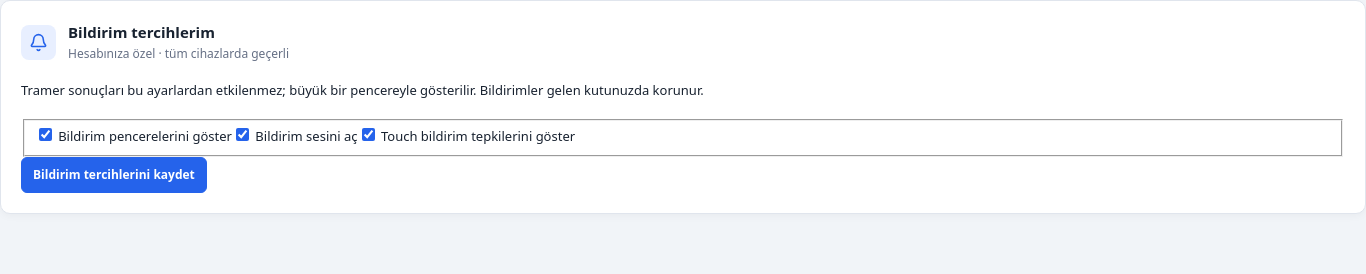
Scenario: saves account-scoped popup, sound and assistant preferences and reports failures
The width and height of the screenshot is (1366, 274).
Click the checkbox labelled "Bildirim pencerelerini göster" at (45, 134), box [39,128,52,141]
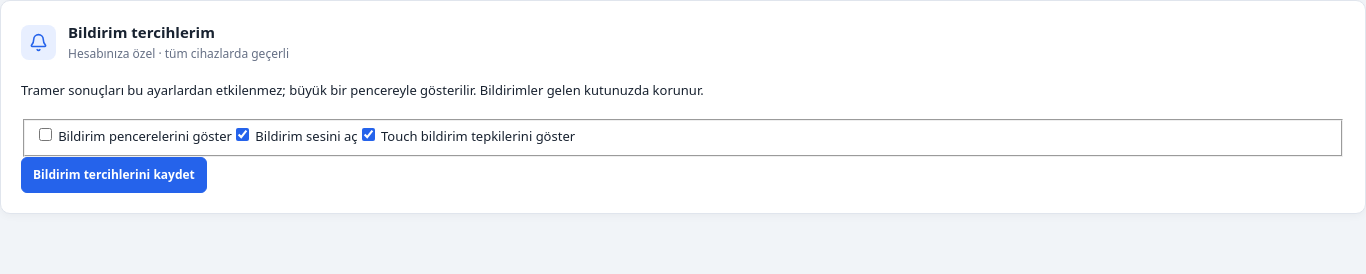
Click the checkbox labelled "Bildirim sesini aç" at (242, 134), box [236,128,249,141]
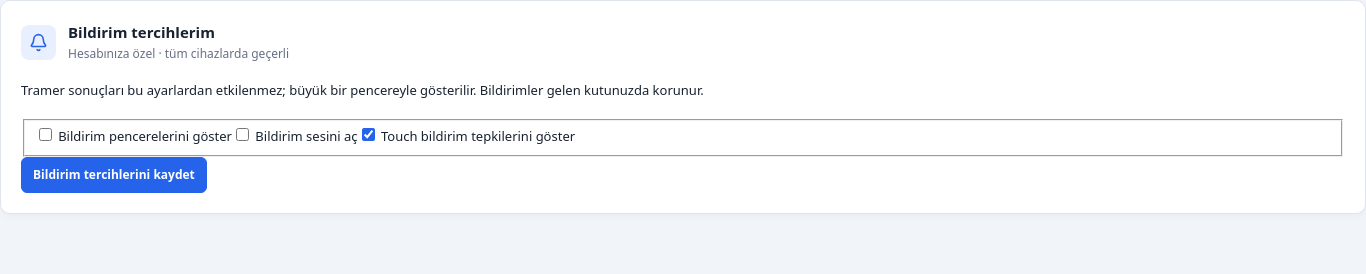
Click the checkbox labelled "Touch bildirim tepkilerini göster" at (368, 134), box [362,128,375,141]
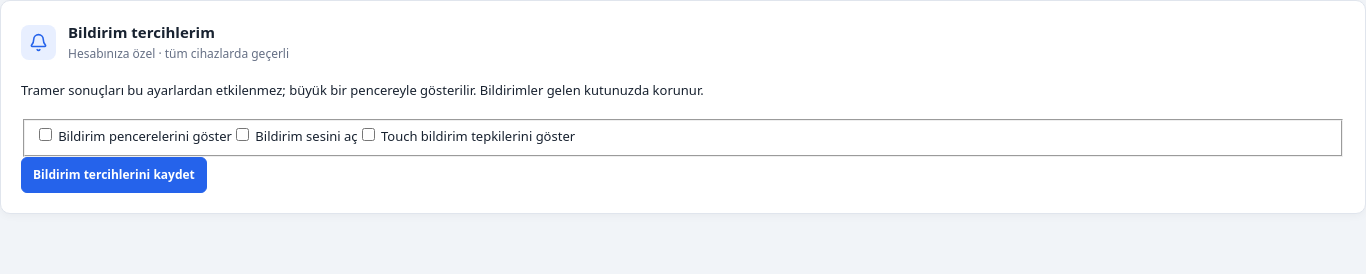
Click the button "Bildirim tercihlerini kaydet" at (114, 175), box [21,157,207,193]
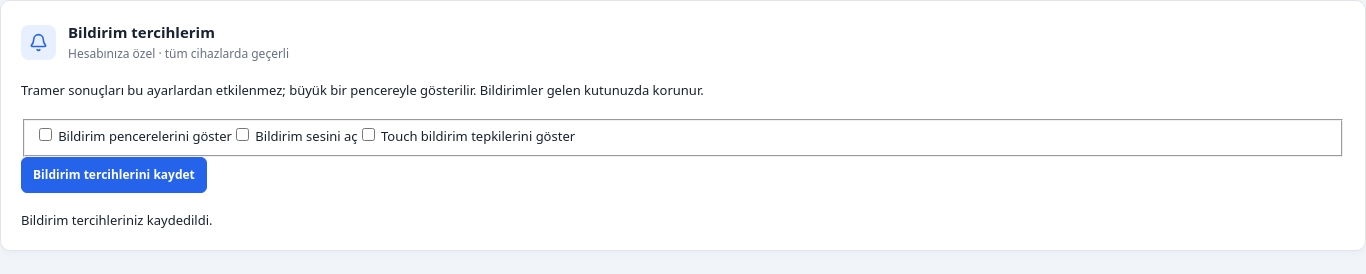
Result: the text "Bildirim tercihleriniz kaydedildi." is shown at [21,211,212,229]
Click the button "Bildirim tercihlerini kaydet" at (114, 175), box [21,157,207,193]
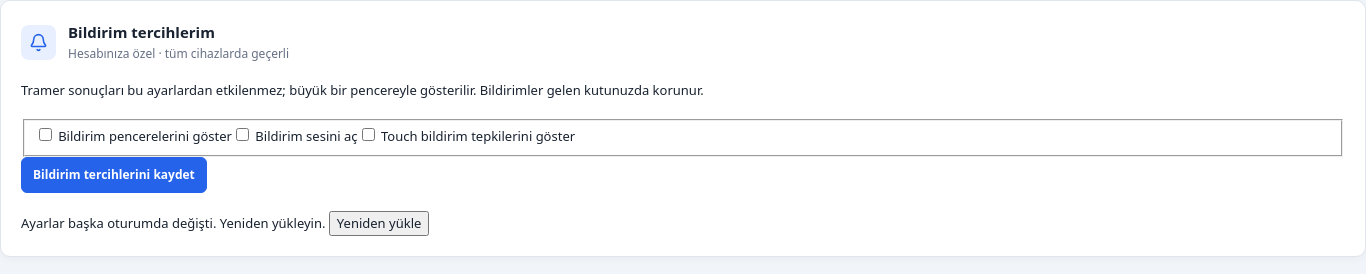
Result: the checkbox labelled "Bildirim pencerelerini göster" is not checked at [39,128,52,141]
Result: the message shows "başka oturumda değişti" at [21,214,326,232]
